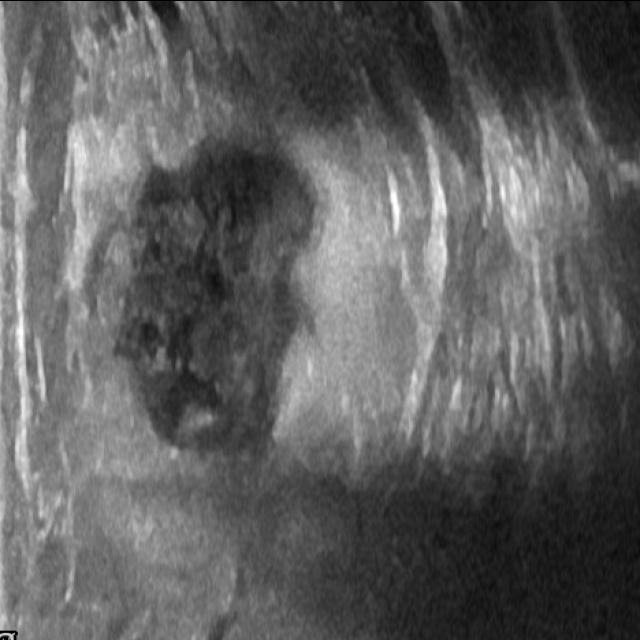Benign: (108, 150, 326, 440)
